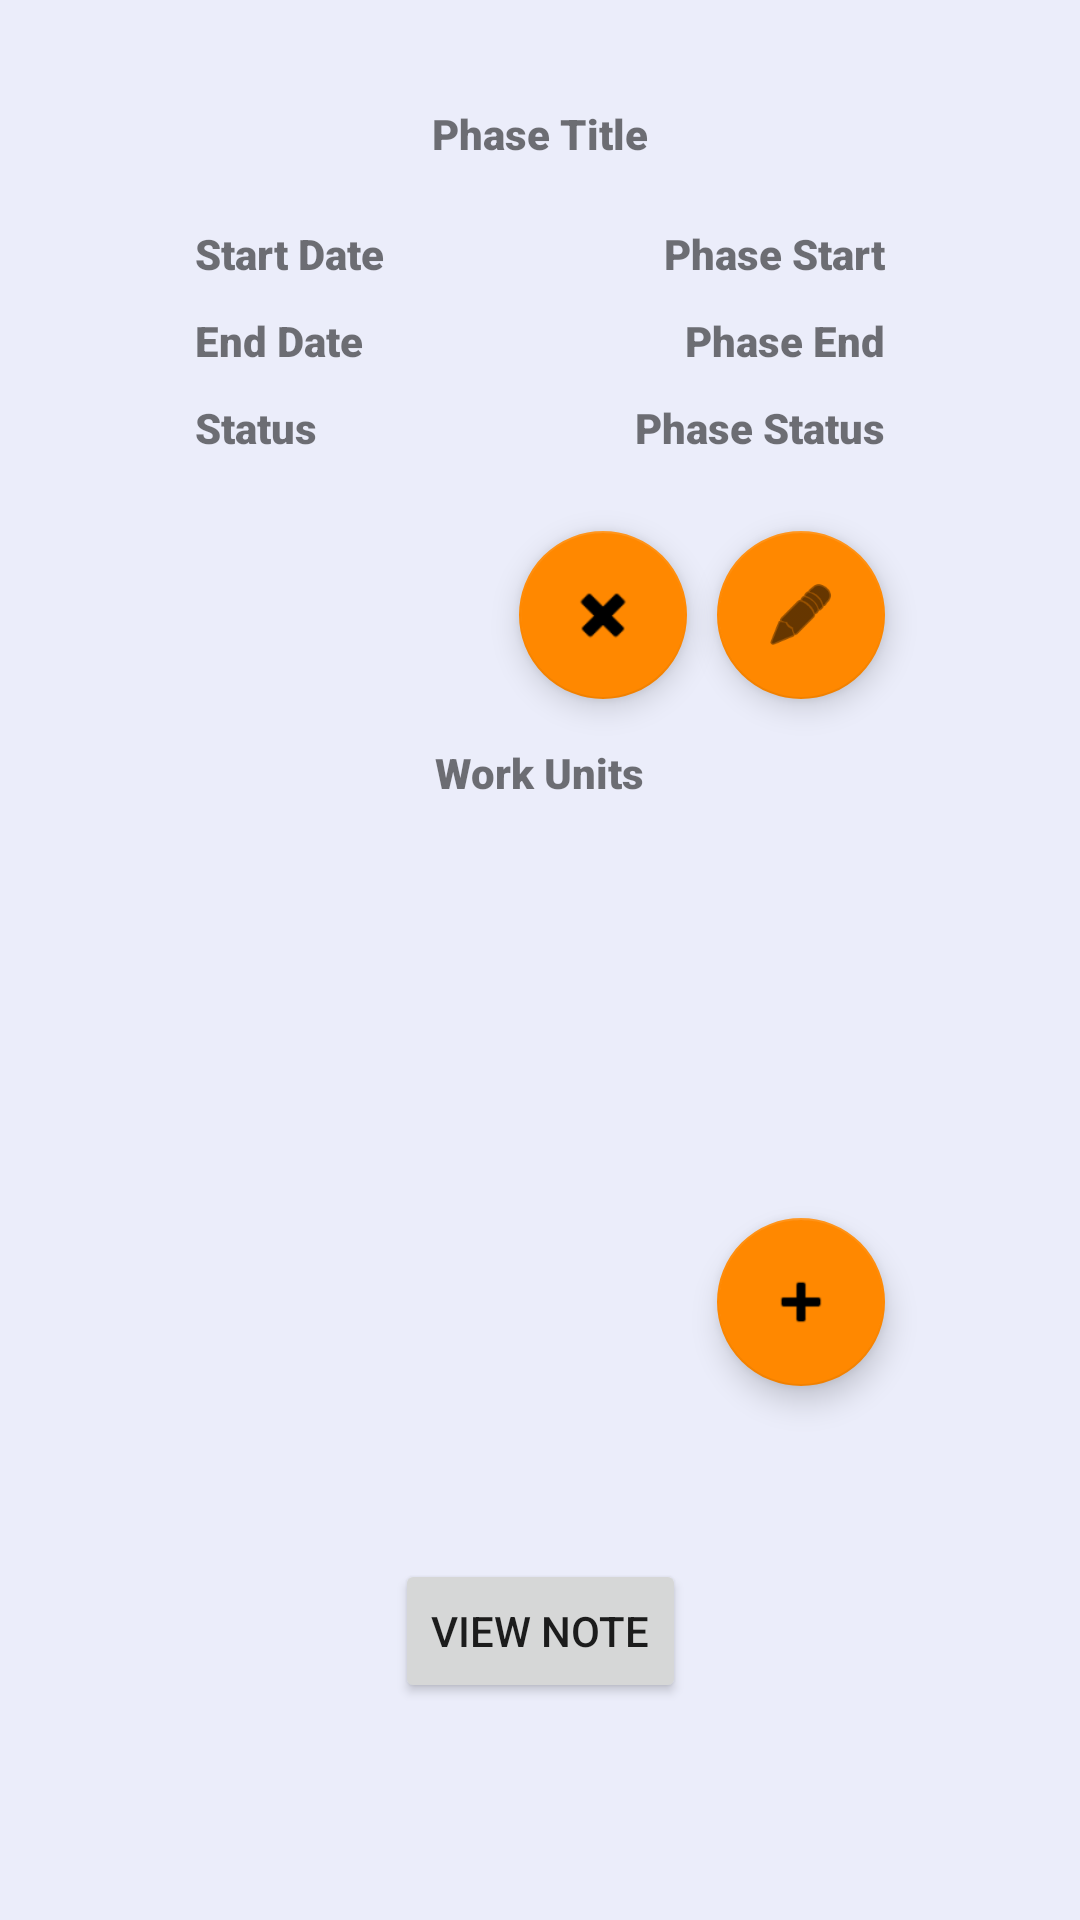

Icons on this 1080 × 1920 Android screen, each with the point to tap as (x,y):
add: (801,1302)
delete: (603,615)
edit: (801,615)
